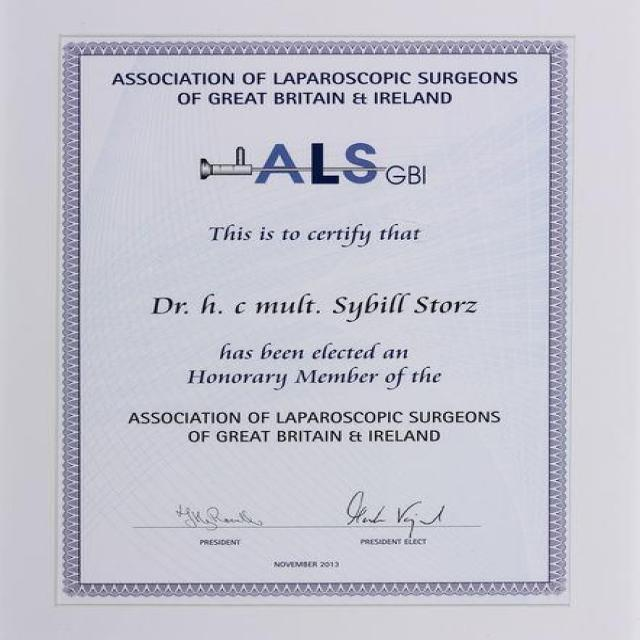signature: (343, 488, 449, 536), (175, 499, 265, 530)
